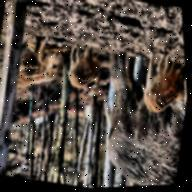boar: (85, 58, 192, 188), (0, 33, 74, 98), (51, 41, 115, 108), (138, 41, 188, 124)
